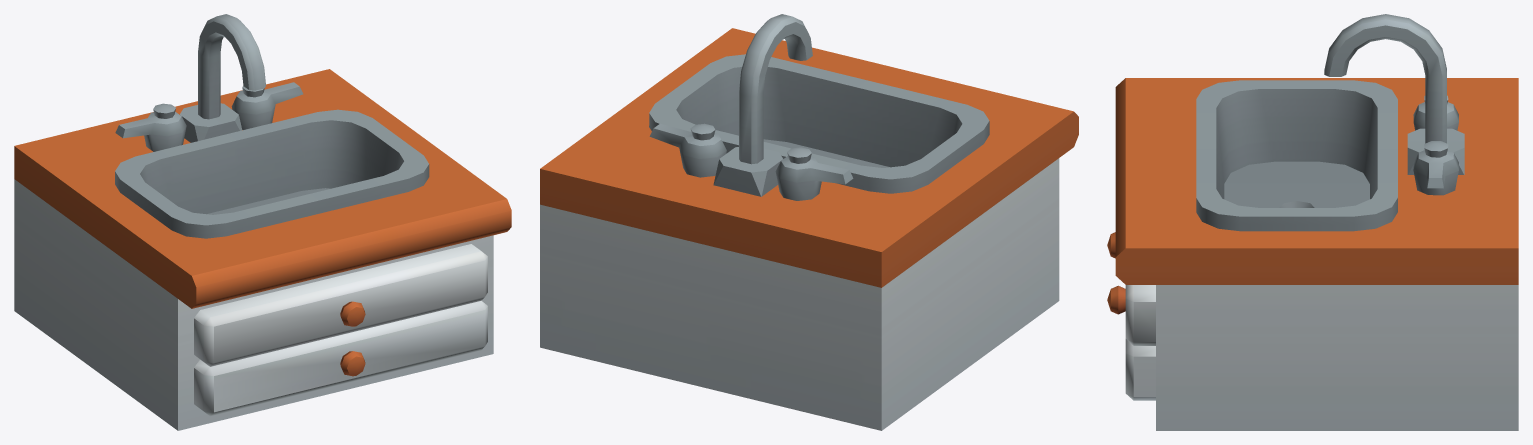
The model's file is kitchen-sink.glb.
The picture shows the model from 3 angles, left to right: view 1: azimuth 30°, elevation 25°; view 2: azimuth 150°, elevation 25°; view 3: azimuth 270°, elevation 25°; orthographic projection. The views are drawn at different scales.
Parts seen in each view (by area): view 1: kitchencounter_sink; view 2: kitchencounter_sink; view 3: kitchencounter_sink.
Part boxes in pixels (x1=…): kitchencounter_sink: x1=14, y1=14, x2=511, y2=430; kitchencounter_sink: x1=540, y1=14, x2=1078, y2=430; kitchencounter_sink: x1=1107, y1=14, x2=1518, y2=430.
Size of the model in its own units: 0.9991 by 0.9 by 1.02.
Materials: 1 (1 with a texture image).
